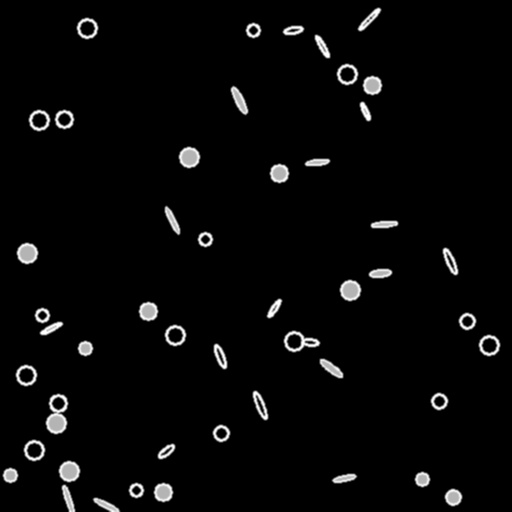pseudomonas: (357, 7, 381, 31), (230, 86, 248, 114), (252, 390, 268, 420), (319, 358, 343, 378), (164, 206, 180, 234), (442, 248, 458, 274), (93, 497, 119, 512), (314, 34, 330, 58), (61, 485, 75, 512), (156, 442, 176, 460), (40, 320, 62, 336), (213, 344, 227, 368), (266, 298, 282, 318), (369, 268, 391, 278), (333, 473, 355, 483), (359, 102, 371, 120), (305, 158, 329, 166), (372, 220, 396, 228), (284, 26, 302, 34), (301, 338, 319, 346)
synechocystis: (25, 441, 43, 459), (17, 366, 35, 384), (285, 332, 303, 350), (30, 111, 48, 129), (18, 244, 36, 262), (78, 19, 96, 37), (47, 414, 65, 432), (338, 65, 356, 83), (341, 281, 359, 299), (480, 336, 498, 354), (60, 462, 78, 480), (166, 326, 184, 344), (180, 148, 198, 166), (364, 77, 380, 93), (56, 111, 72, 127), (271, 165, 287, 181), (50, 395, 66, 411), (155, 484, 171, 500), (140, 303, 156, 319), (432, 394, 446, 408), (460, 314, 474, 328), (446, 490, 460, 504), (214, 426, 228, 440), (79, 342, 91, 354), (247, 24, 259, 36), (416, 473, 428, 485), (130, 484, 142, 496), (199, 233, 211, 245), (36, 309, 48, 321), (4, 469, 16, 481)
